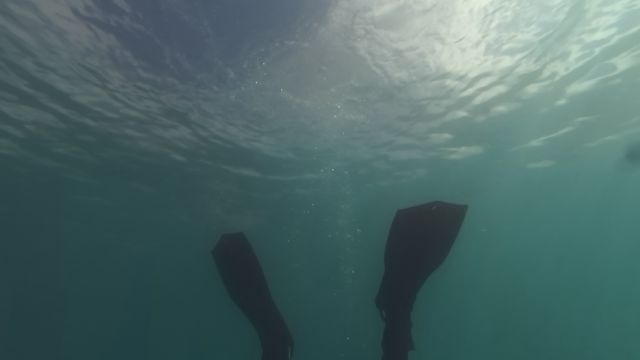Diver: (198, 192, 467, 359)
